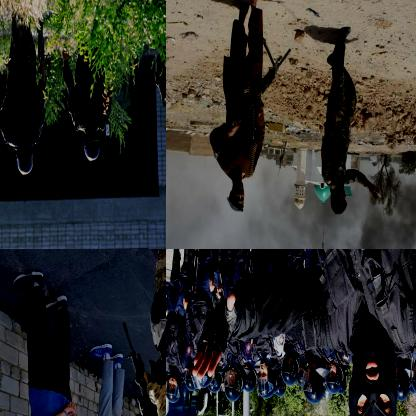rifle: (212, 39, 293, 160), (120, 319, 165, 415)
